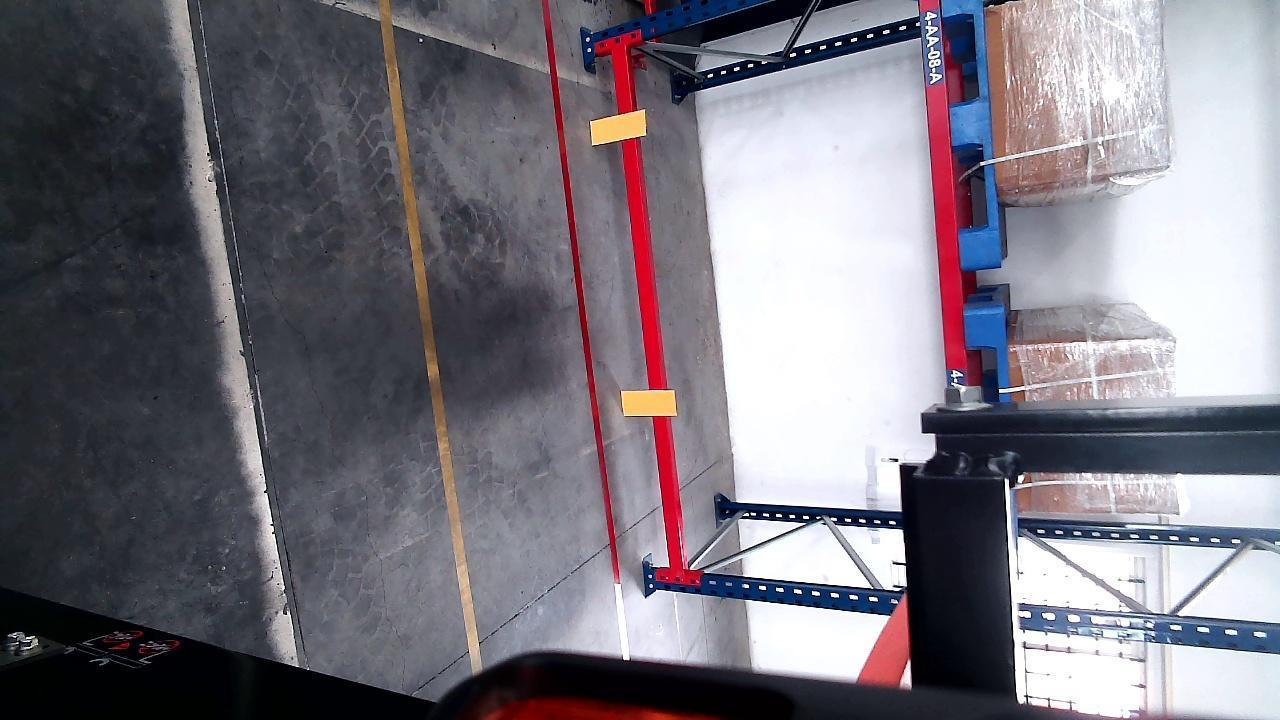h_rack: (606, 40, 693, 566), (919, 0, 966, 399), (1007, 612, 1280, 644)
orange_strip: (590, 109, 645, 143), (622, 388, 675, 416)
red_line: (544, 0, 633, 654)
small_pallet: (945, 0, 997, 260), (964, 302, 1009, 399)
